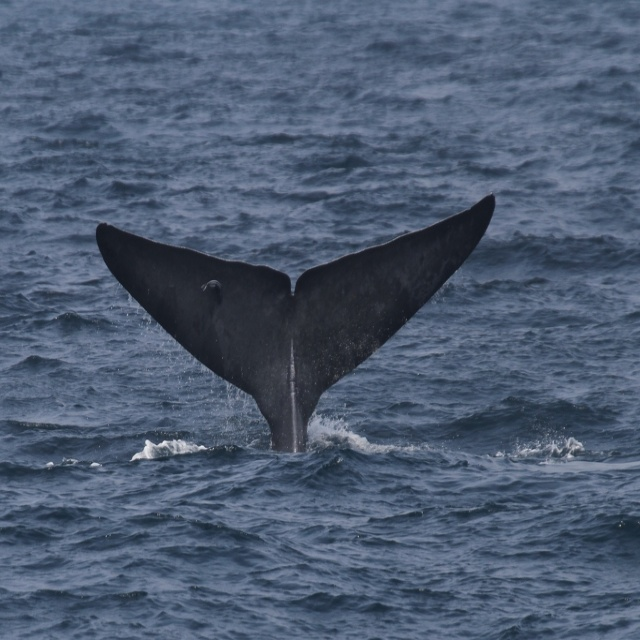Whale: (95, 193, 496, 455)
